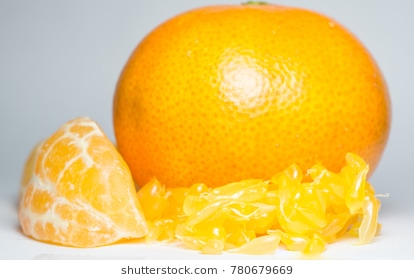orange: (118, 1, 397, 238), (19, 120, 155, 253)
